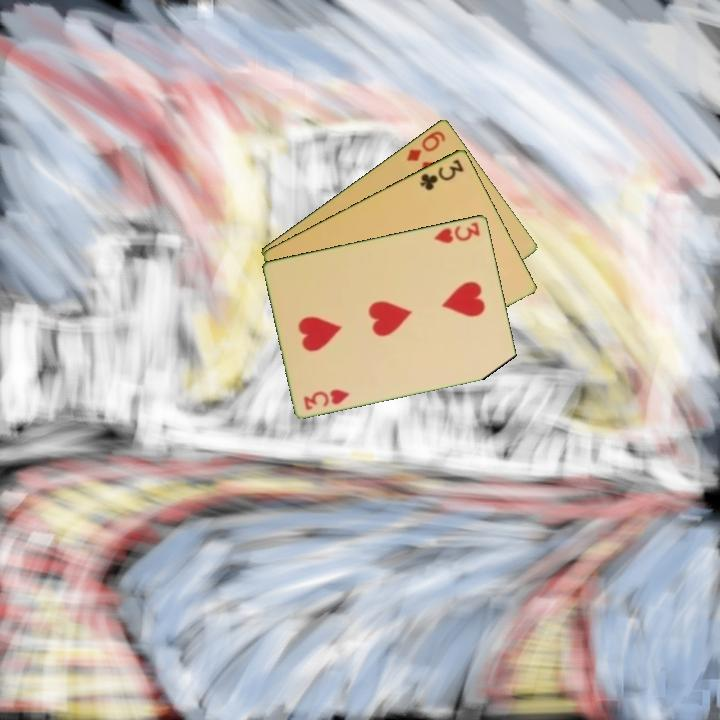3c: (416, 155, 467, 193)
3h: (430, 218, 483, 246), (300, 385, 353, 413)
6d: (403, 127, 448, 164)
